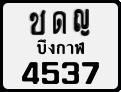letters: (29, 9, 47, 36), (74, 9, 90, 36), (82, 62, 100, 85), (21, 62, 39, 84), (42, 62, 59, 84), (62, 62, 79, 84), (53, 11, 67, 35)
province: (37, 39, 84, 55)
